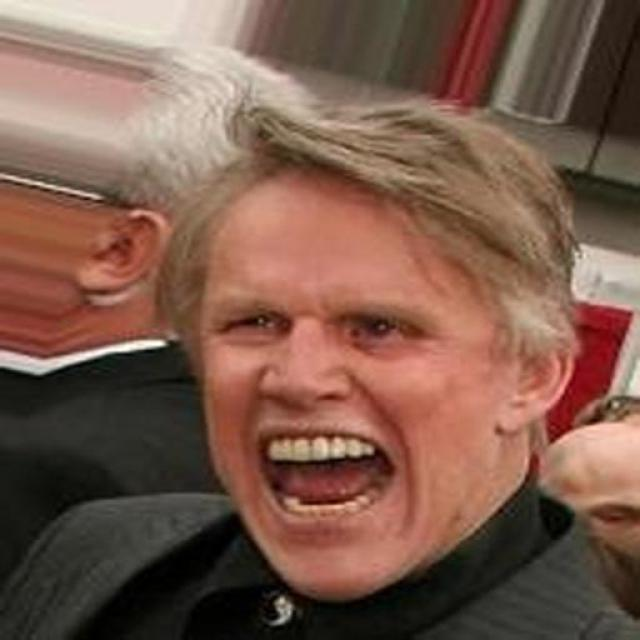bareface: (189, 122, 572, 572)
